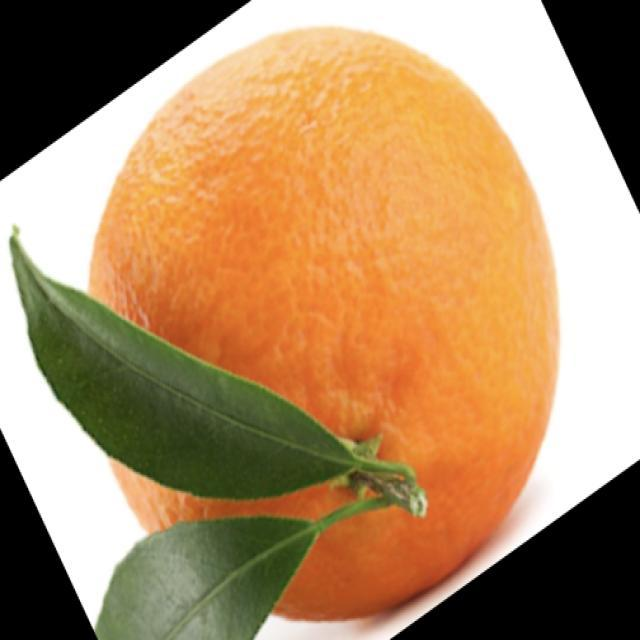matang: (90, 28, 556, 619), (112, 461, 350, 532)
